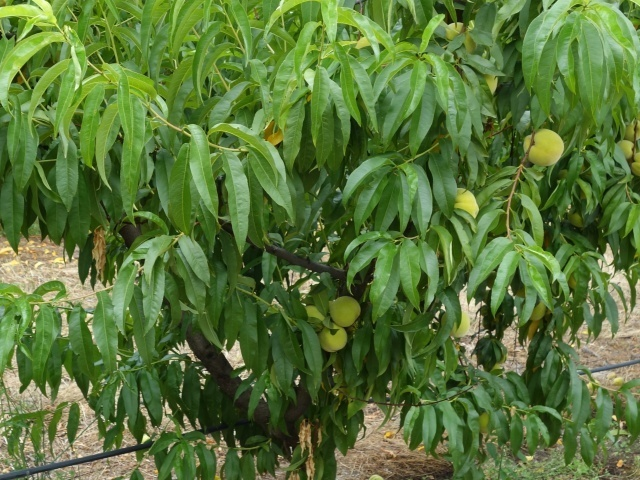peach: (521, 125, 566, 169), (328, 291, 362, 328), (449, 185, 481, 221), (318, 320, 349, 354), (306, 300, 334, 334), (444, 314, 473, 342), (614, 134, 636, 163)
